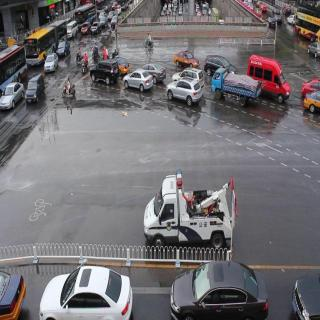Car: (159, 262, 270, 320), (148, 174, 235, 244), (35, 260, 134, 320), (242, 51, 287, 102), (213, 62, 251, 105), (167, 77, 203, 111), (1, 79, 24, 119), (23, 76, 46, 112), (174, 44, 199, 72), (205, 49, 234, 72), (143, 56, 166, 84), (126, 70, 149, 95), (57, 35, 70, 63), (47, 50, 57, 80), (66, 15, 78, 38)
